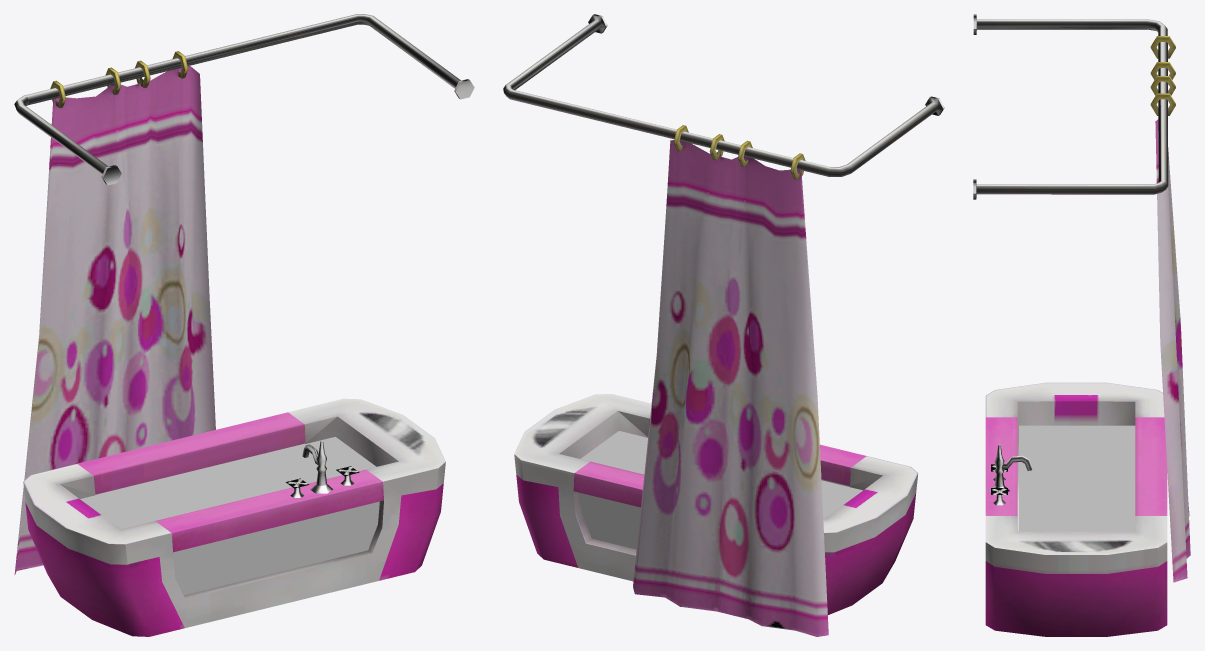
File: furni_0200524_01.FBX
The picture shows the model from 3 angles, left to right: view 1: azimuth 30°, elevation 25°; view 2: azimuth 150°, elevation 25°; view 3: azimuth 270°, elevation 25°; orthographic projection. The views are drawn at different scales.
Parts seen in each view (by area): view 1: furni_0200524_01; view 2: furni_0200524_01; view 3: furni_0200524_01.
Boxes of the visible parts, x1,y1,x2,y2 form: furni_0200524_01: [14, 14, 474, 636]; furni_0200524_01: [503, 14, 944, 636]; furni_0200524_01: [973, 14, 1190, 636].
Size of the model in its own units: 161 by 202 by 85.19.
